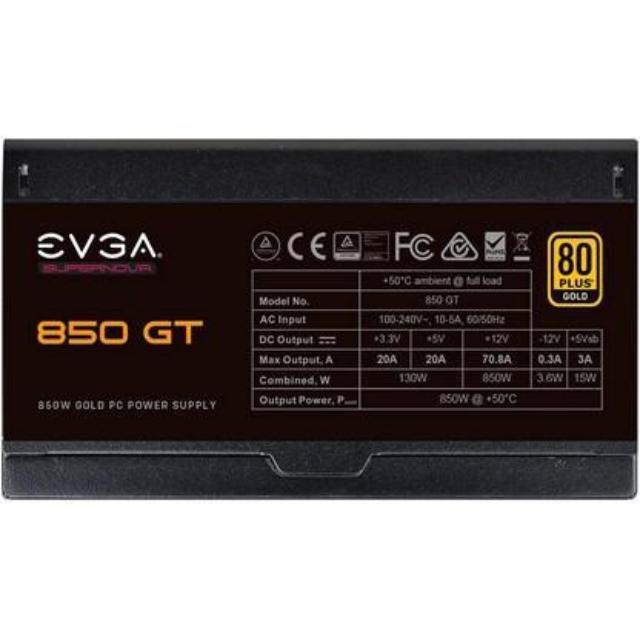PSU: (0, 122, 640, 553)
